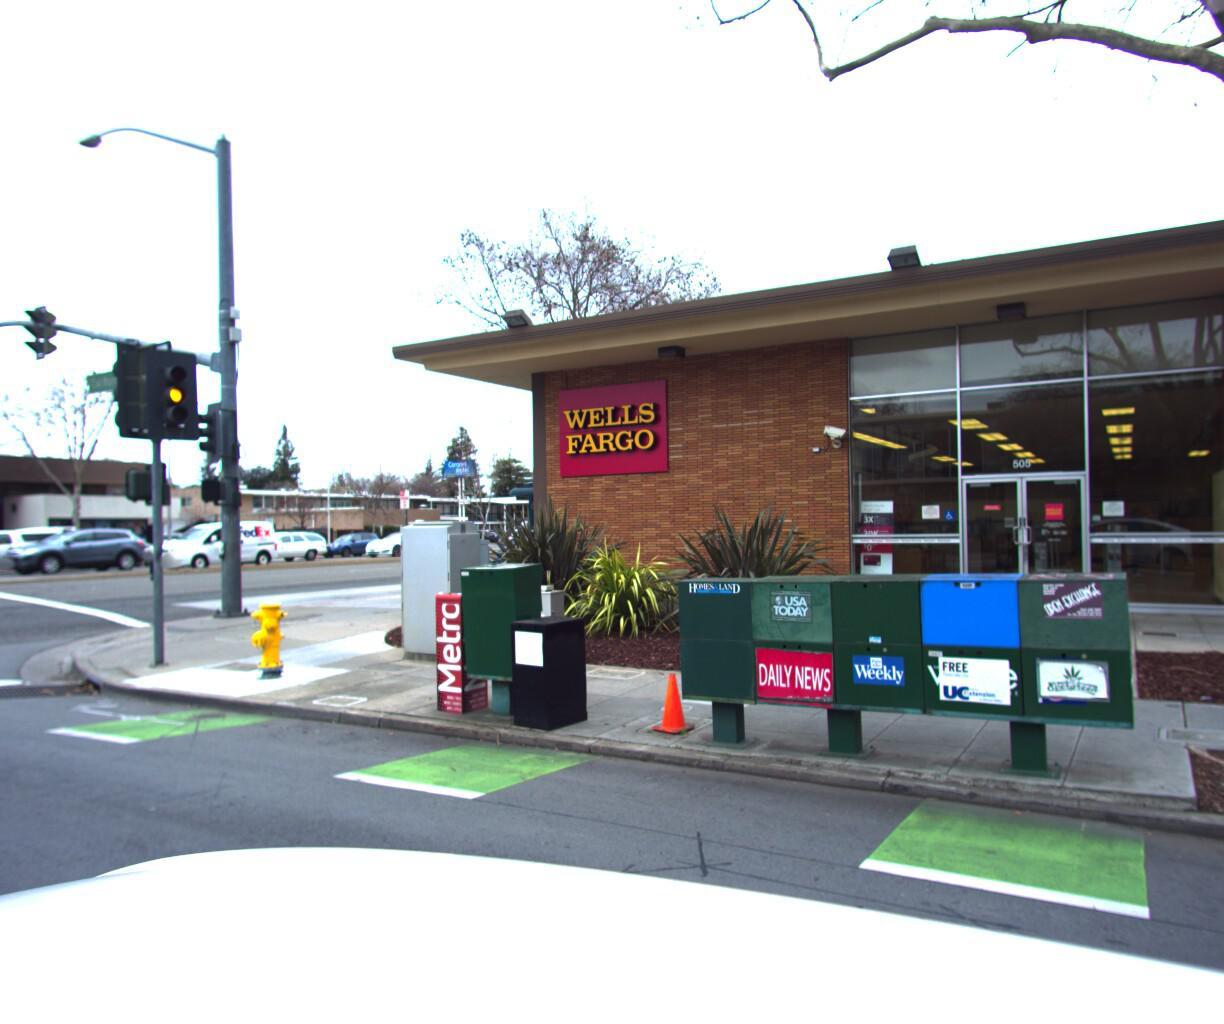car: (0, 529, 156, 577), (147, 520, 287, 573), (0, 525, 90, 578), (226, 529, 334, 563), (76, 541, 177, 573), (363, 529, 445, 555), (319, 534, 388, 559), (0, 541, 8, 582)
